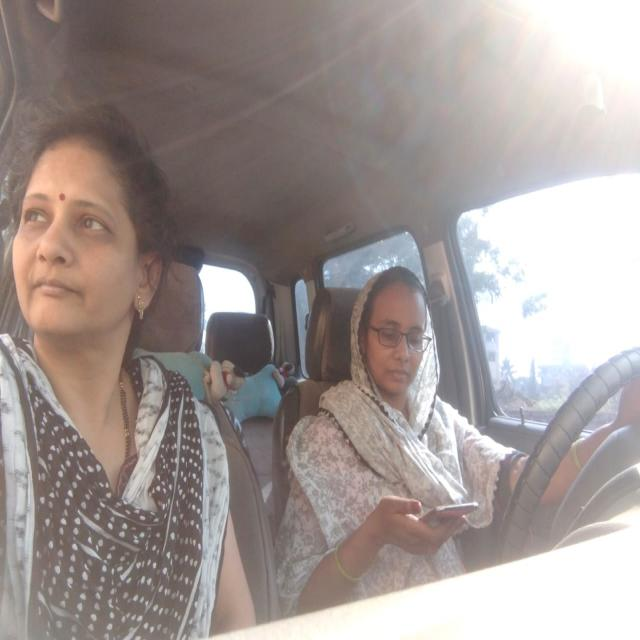mobile: (418, 498, 487, 534)
person: (9, 112, 175, 344), (352, 267, 437, 400)
